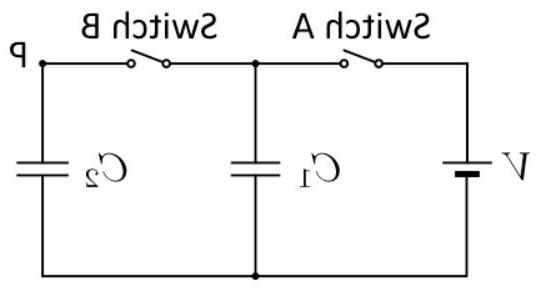Capacitor: (217, 138, 288, 217)
